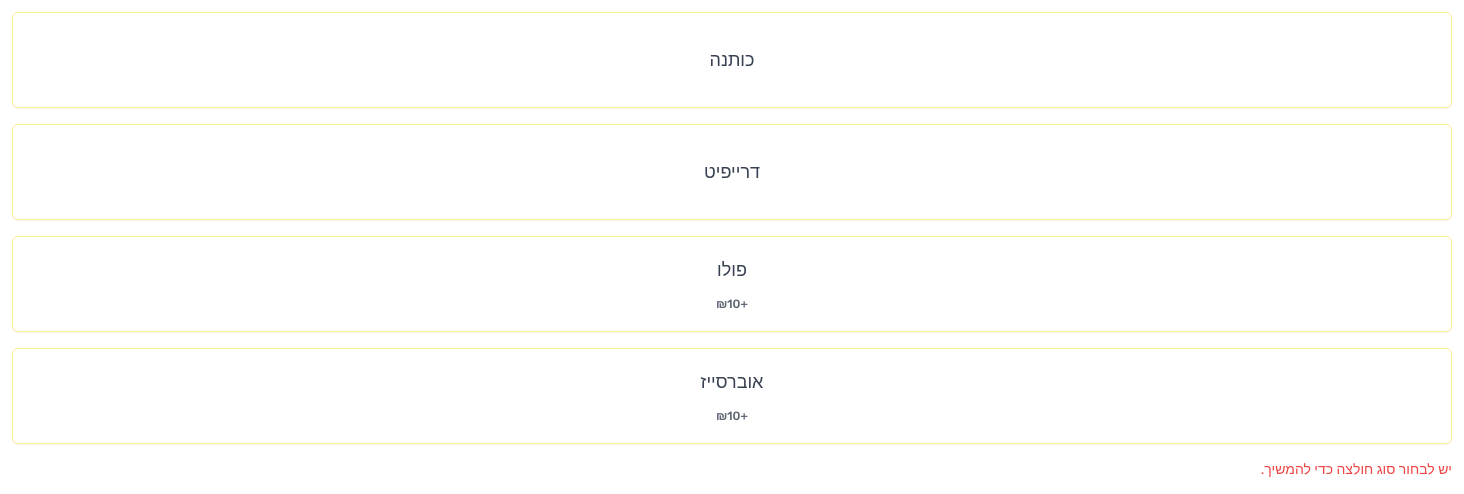
Test: ShirtTypeStep — cotton sleeve sub-view › tapping כותנה swaps the grid for the two sleeve cards + a back link, without selecting
Click the button "כותנה". click: (732, 60)
box: left=12, top=12, right=1452, bottom=108
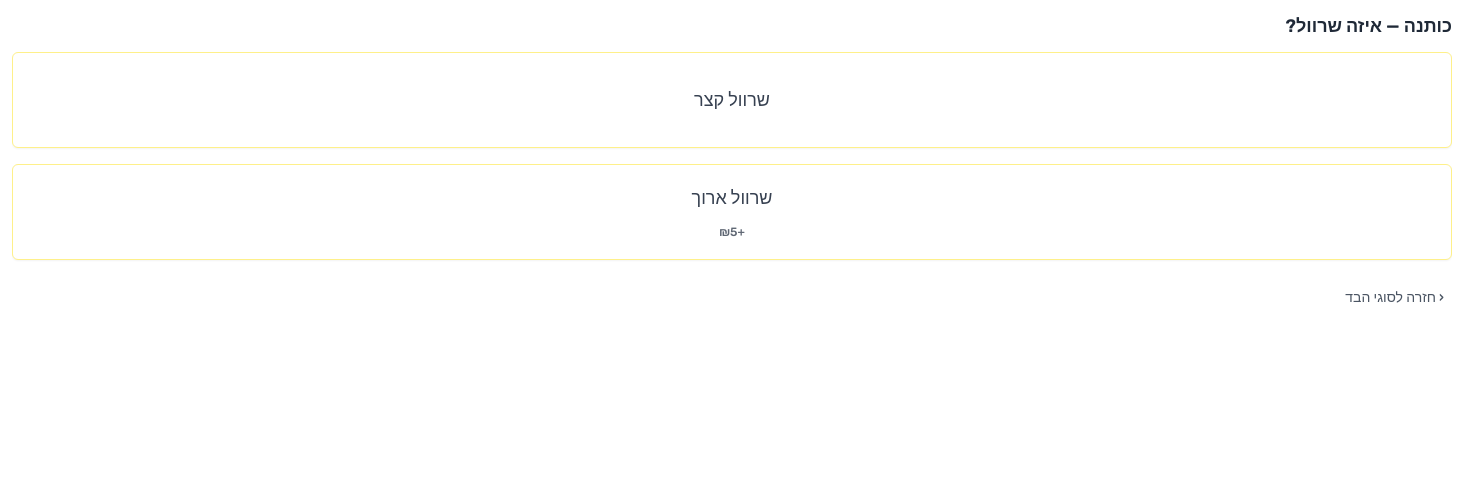
Expected: the heading "כותנה — איזה שרוול?" is shown, left=1286, top=15, right=1452, bottom=37
Expected: the button "שרוול קצר" is shown, left=12, top=52, right=1452, bottom=148
Expected: the button "שרוול ארוך +₪5" is shown, left=12, top=164, right=1452, bottom=260
